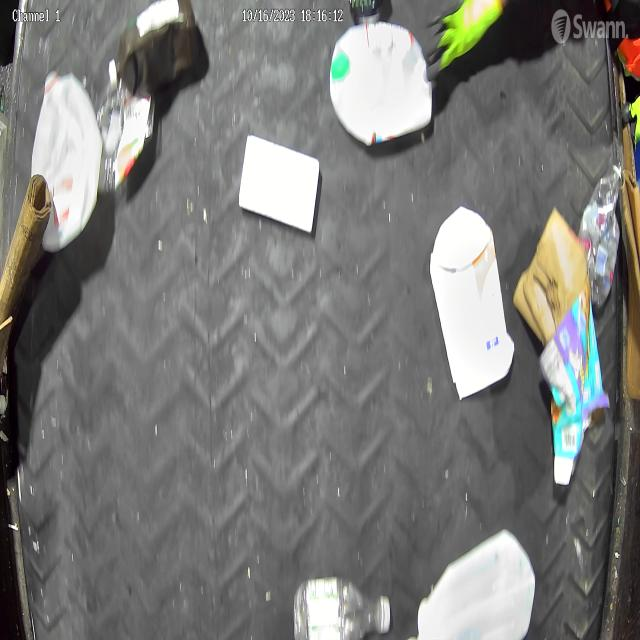milk_jug: (430, 204, 514, 400), (417, 529, 536, 640), (32, 68, 102, 252), (330, 22, 430, 146)
plastic_bottle: (579, 159, 623, 308), (292, 576, 391, 640)
